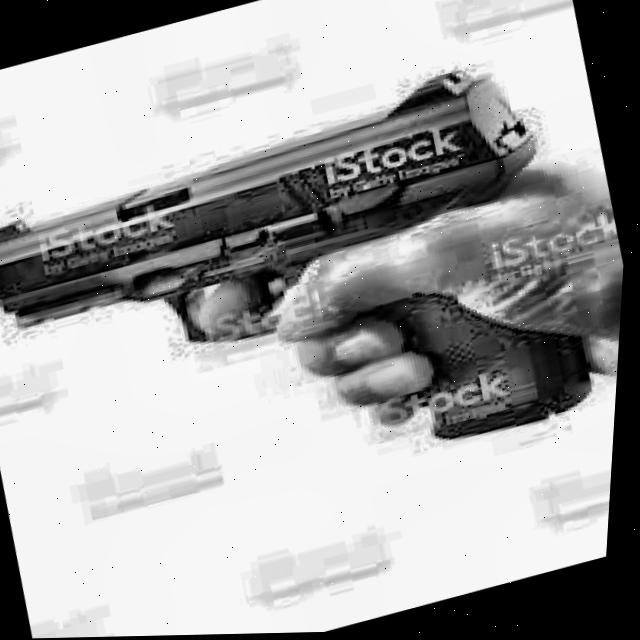pistol: (0, 49, 616, 454)
